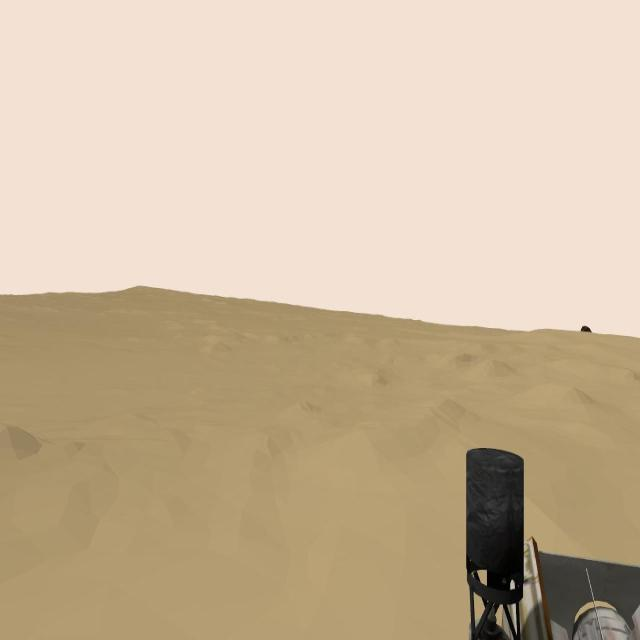rock: (580, 327, 591, 332)
